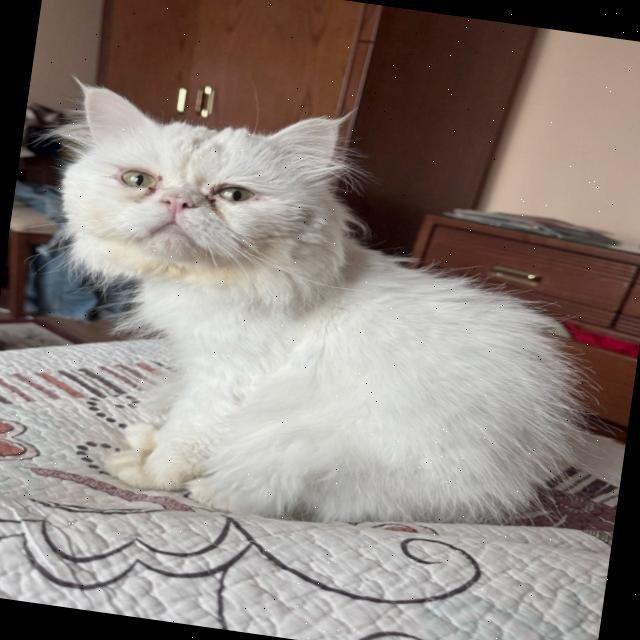persian_cat: (34, 64, 399, 326)
